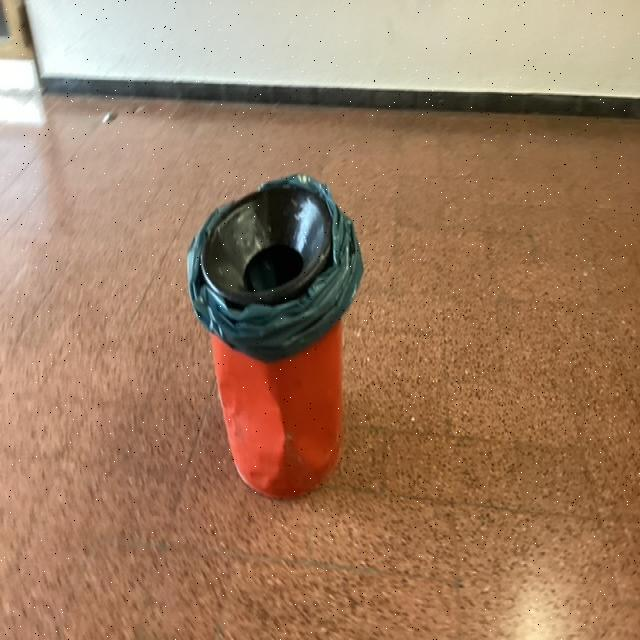garbage container: (172, 144, 382, 512)
